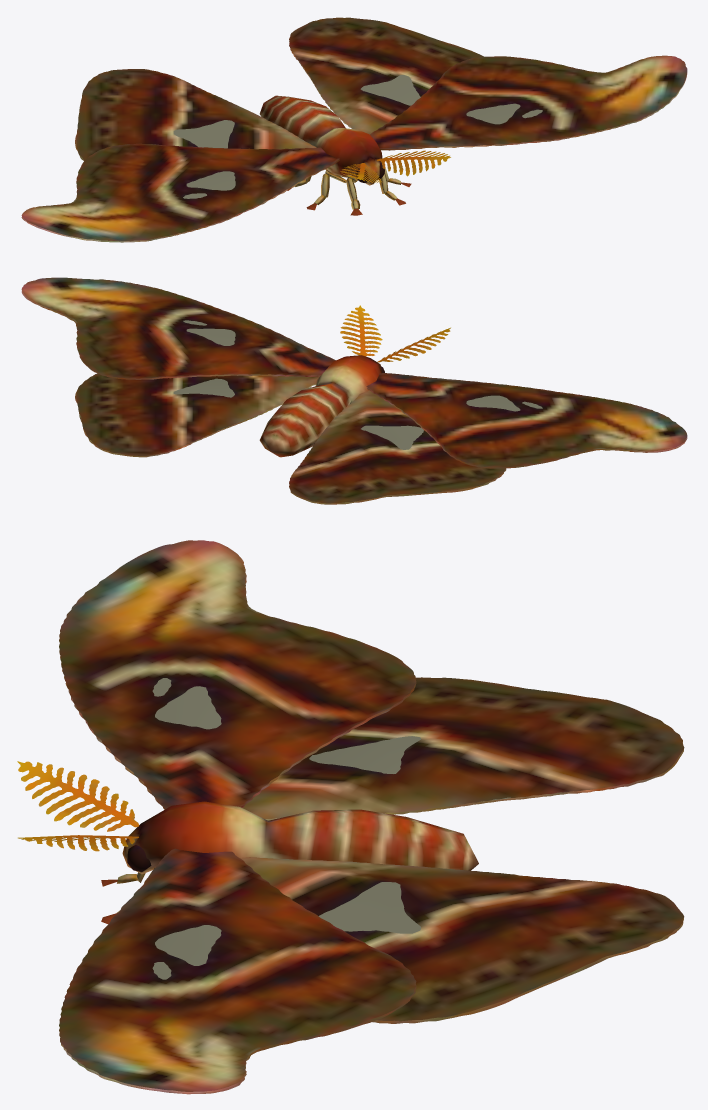
Rendered from atlas-moth.glb.
3 views of the same model, one above another, from view 1: azimuth 30°, elevation 25°; view 2: azimuth 150°, elevation 25°; view 3: azimuth 270°, elevation 25° (orthographic). The views are drawn at different scales.
Size of the model in its own units: 9.21 by 0.8595 by 4.75.
2 materials, 2 textured.
